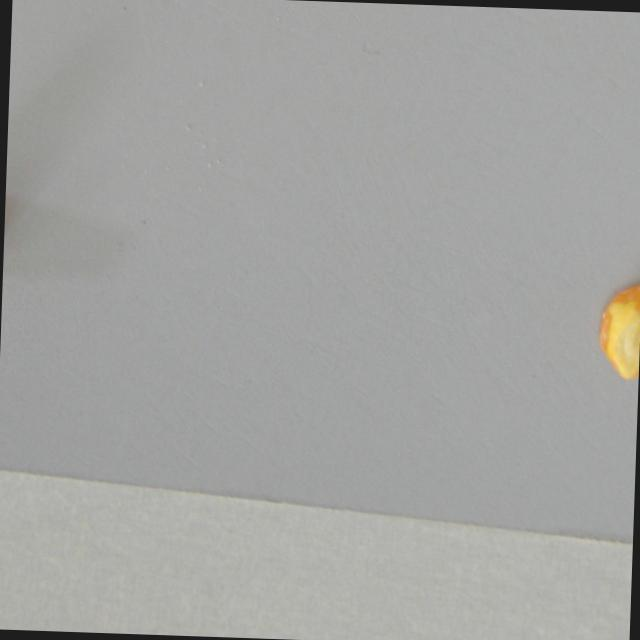pelicula: (597, 281, 640, 382)
